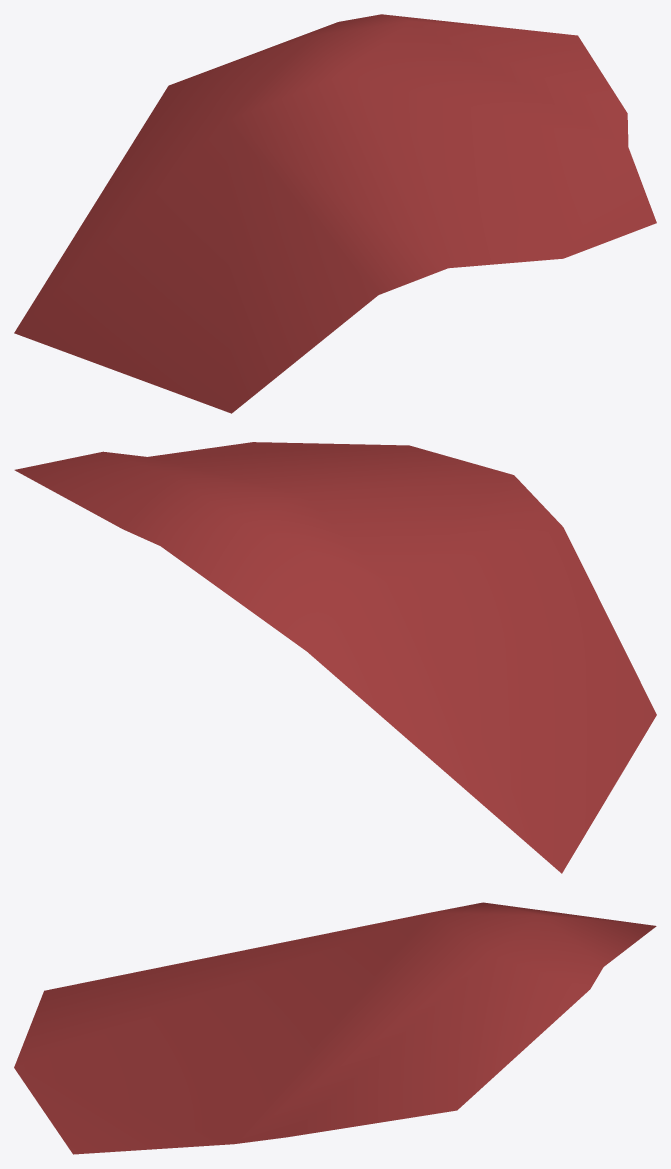
File: extensor-digitorum-brevis-e2r.glb
The picture shows the model from 3 angles, top to bottom: view 1: azimuth 30°, elevation 25°; view 2: azimuth 150°, elevation 25°; view 3: azimuth 270°, elevation 25°; orthographic projection. The views are drawn at different scales.
Parts seen in each view (by area): view 1: Extensor digitorum brevis.e2r; view 2: Extensor digitorum brevis.e2r; view 3: Extensor digitorum brevis.e2r.
Boxes of the visible parts, x1=… form: Extensor digitorum brevis.e2r: x1=14, y1=14, x2=656, y2=413; Extensor digitorum brevis.e2r: x1=14, y1=442, x2=656, y2=873; Extensor digitorum brevis.e2r: x1=14, y1=902, x2=656, y2=1154.
Size of the model in its own units: 0.0045 by 0.00198 by 0.00361.
